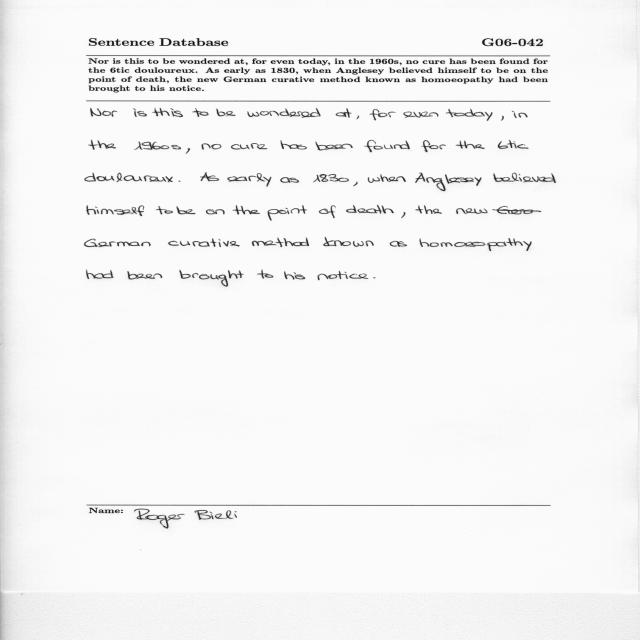word: (420, 238, 532, 251), (415, 173, 482, 191), (179, 270, 244, 287), (85, 173, 173, 183), (247, 108, 321, 118), (493, 172, 556, 183), (456, 206, 541, 214), (168, 239, 240, 248), (268, 205, 308, 221), (228, 173, 272, 187), (446, 108, 492, 121), (87, 206, 144, 216), (364, 140, 410, 152), (84, 239, 151, 247), (252, 238, 309, 247), (323, 237, 374, 247), (318, 271, 369, 280), (346, 205, 394, 214), (134, 141, 181, 150), (315, 142, 353, 151), (368, 174, 406, 183), (127, 271, 162, 280), (421, 140, 446, 152), (313, 174, 349, 182), (370, 109, 396, 120), (88, 140, 116, 150), (152, 108, 183, 117), (280, 140, 307, 150), (498, 140, 528, 149), (233, 205, 260, 215), (231, 143, 267, 150), (415, 205, 442, 214), (87, 270, 114, 279), (91, 108, 117, 117), (456, 141, 485, 149), (319, 206, 336, 219), (404, 112, 439, 118), (284, 271, 305, 280), (336, 108, 352, 118), (192, 108, 209, 117), (257, 270, 274, 279), (216, 109, 235, 117), (200, 173, 219, 181), (177, 207, 196, 215), (202, 143, 222, 150), (156, 206, 173, 214), (133, 108, 147, 117), (280, 177, 299, 183), (206, 209, 225, 215), (512, 111, 528, 118), (390, 241, 407, 247), (186, 148, 190, 154), (402, 212, 406, 218), (353, 182, 358, 186), (501, 116, 504, 121), (357, 116, 359, 120), (179, 180, 181, 182), (373, 277, 375, 278)
